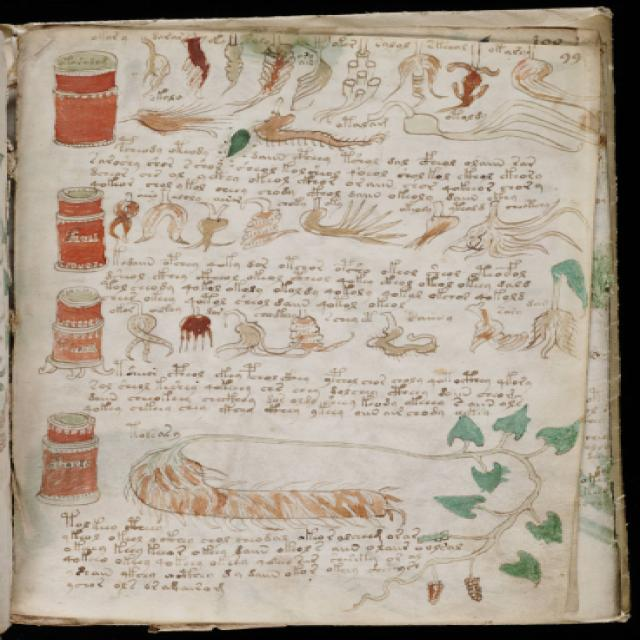can: (26, 405, 117, 516), (38, 45, 126, 157), (33, 282, 127, 382), (43, 179, 122, 279)
plant: (116, 400, 593, 616), (520, 255, 593, 370)
root: (443, 195, 601, 268), (447, 94, 593, 161), (298, 194, 412, 259), (361, 306, 450, 364), (130, 98, 230, 142), (215, 313, 291, 367), (176, 303, 220, 352)
